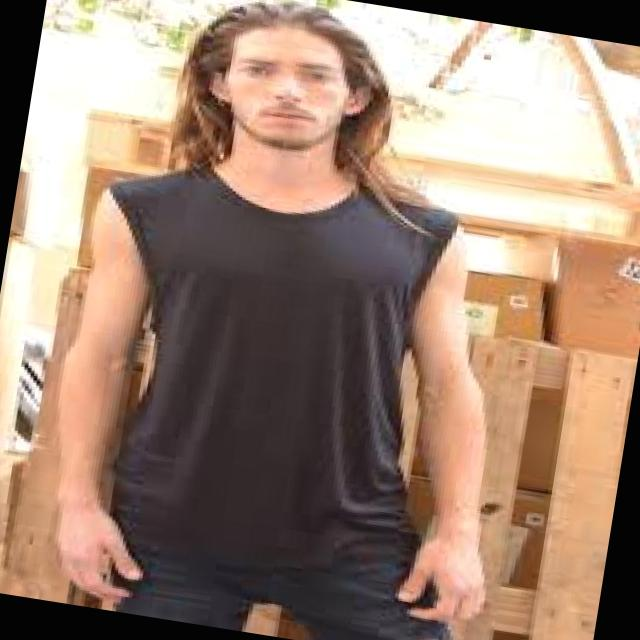no_vest: (54, 138, 491, 590)
